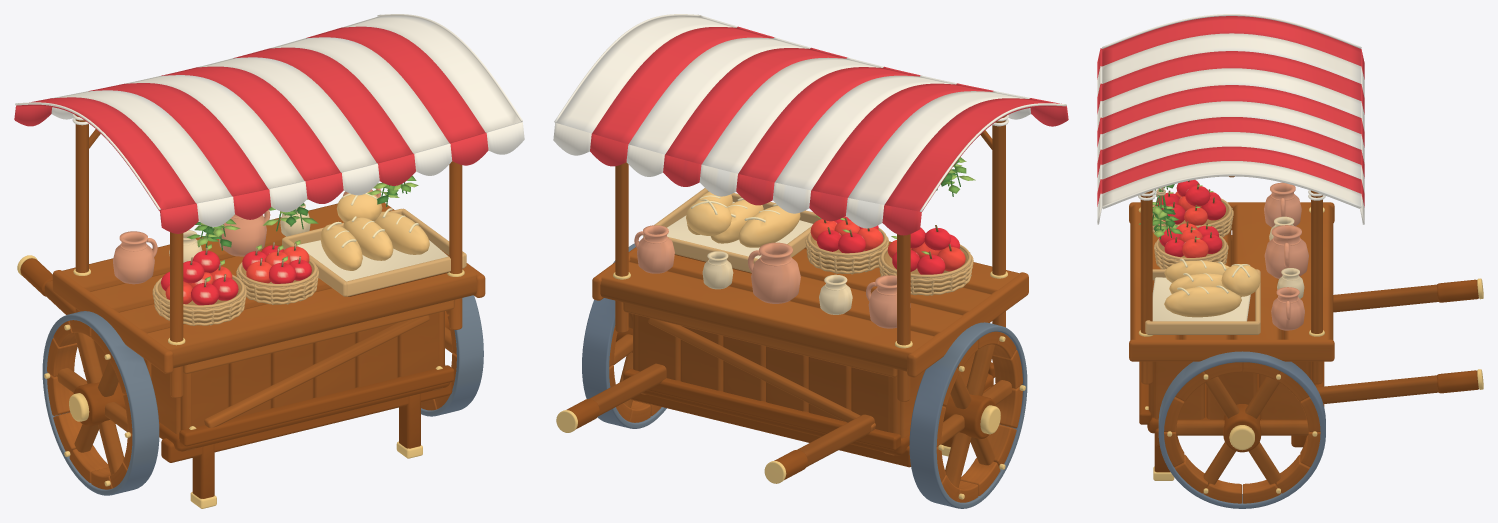
Rendered from Vendor_Cart.glb.
3 views of the same model, side by side, from view 1: azimuth 30°, elevation 25°; view 2: azimuth 150°, elevation 25°; view 3: azimuth 270°, elevation 25° (orthographic). The views are drawn at different scales.
Visible parts, largest first — view 1: Street_Vendor_Cart; view 2: Street_Vendor_Cart; view 3: Street_Vendor_Cart.
Boxes of the visible parts, x1=… form: Street_Vendor_Cart: x1=14, y1=14, x2=524, y2=508; Street_Vendor_Cart: x1=553, y1=14, x2=1068, y2=508; Street_Vendor_Cart: x1=1097, y1=14, x2=1483, y2=508.
Bounding box in the file's own units: 2.99 × 2.86 × 2.95.
22 materials, 3 textured.
